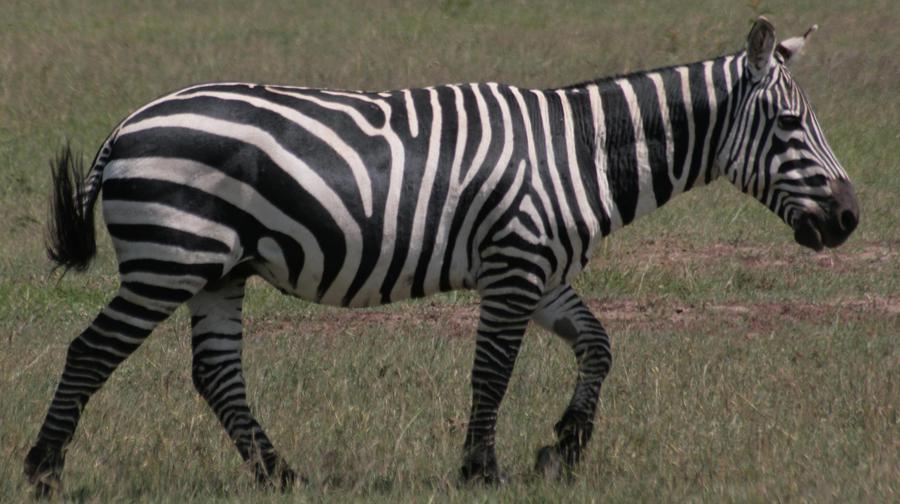zebra_plains: (117, 79, 576, 300)
